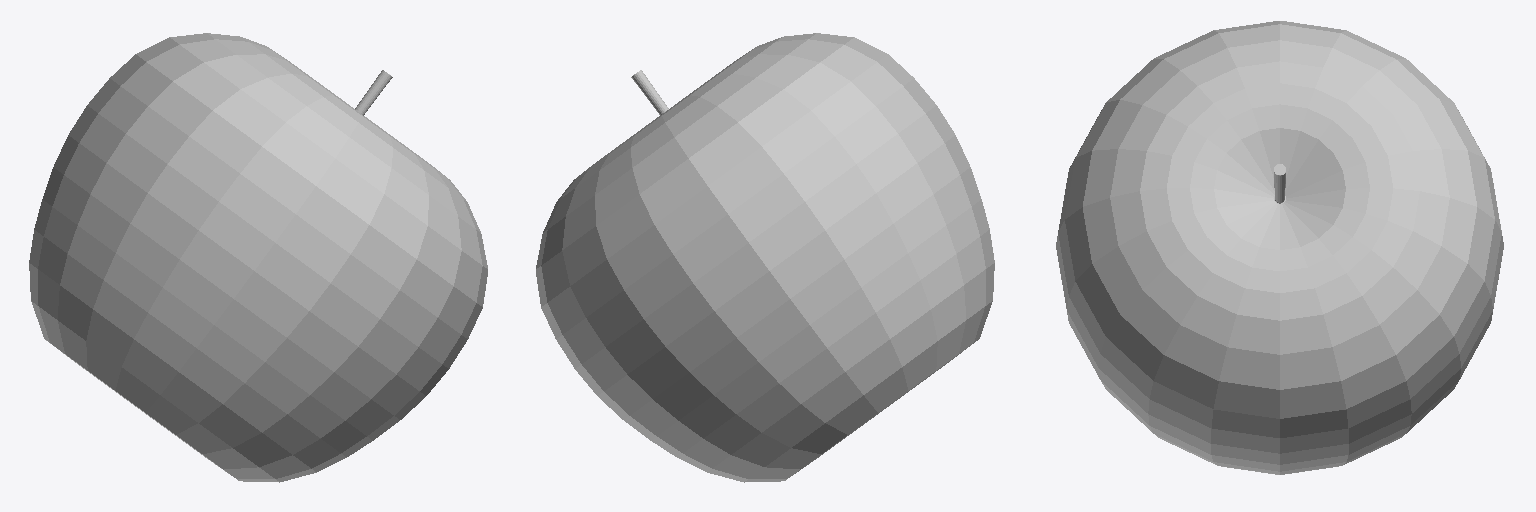
Rendered from green_apple.obj.
3 renders of one model, left to right at view 1: azimuth 30°, elevation 25°; view 2: azimuth 150°, elevation 25°; view 3: azimuth 270°, elevation 25°, orthographic.
Visible parts, largest first — view 1: pSphere2; view 2: pSphere2; view 3: pSphere2.
Boxes of the visible parts, x1=… form: pSphere2: x1=29, y1=33, x2=487, y2=482; pSphere2: x1=536, y1=33, x2=994, y2=482; pSphere2: x1=1056, y1=21, x2=1503, y2=474.
Size of the model in its own units: 1.99 by 1.98 by 1.95.